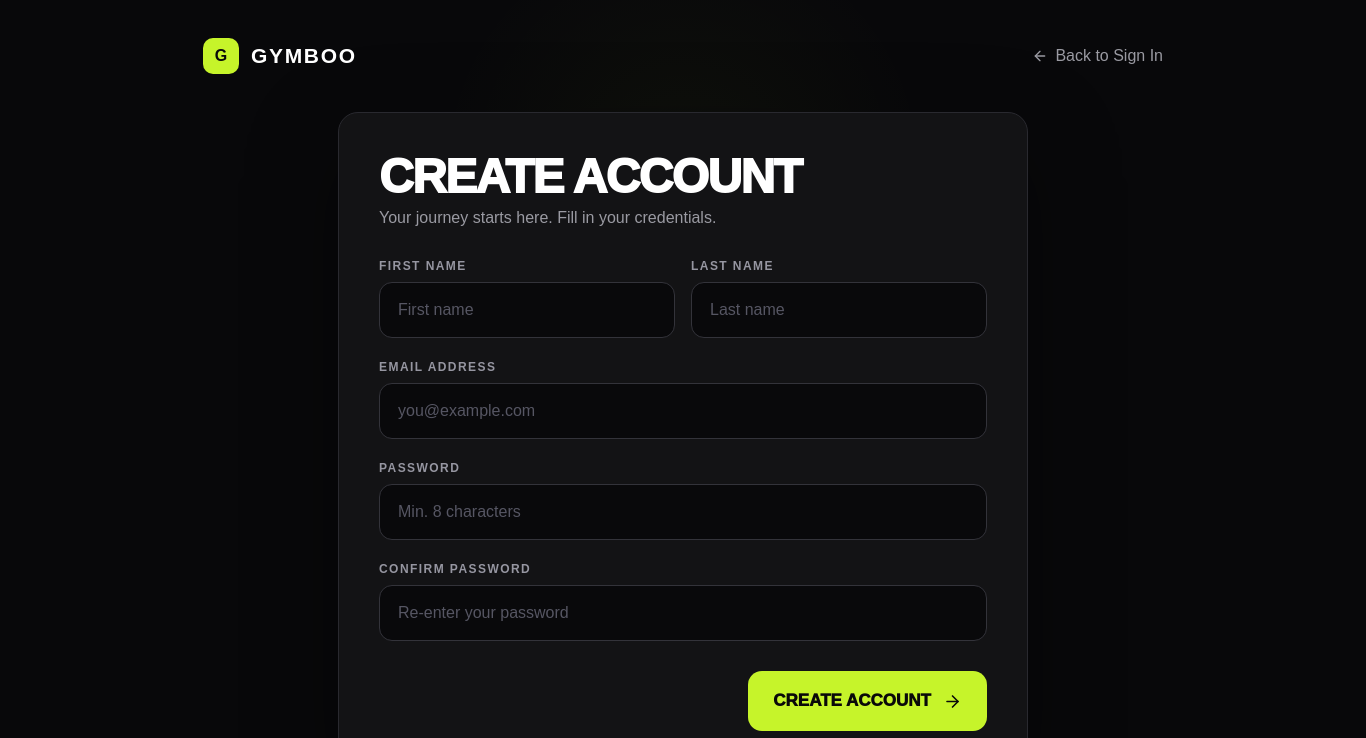
Scenario: Auth flow › rejects mismatched registration passwords
In the field with id "name": (527, 310) [379, 282, 675, 338], type "Paola"
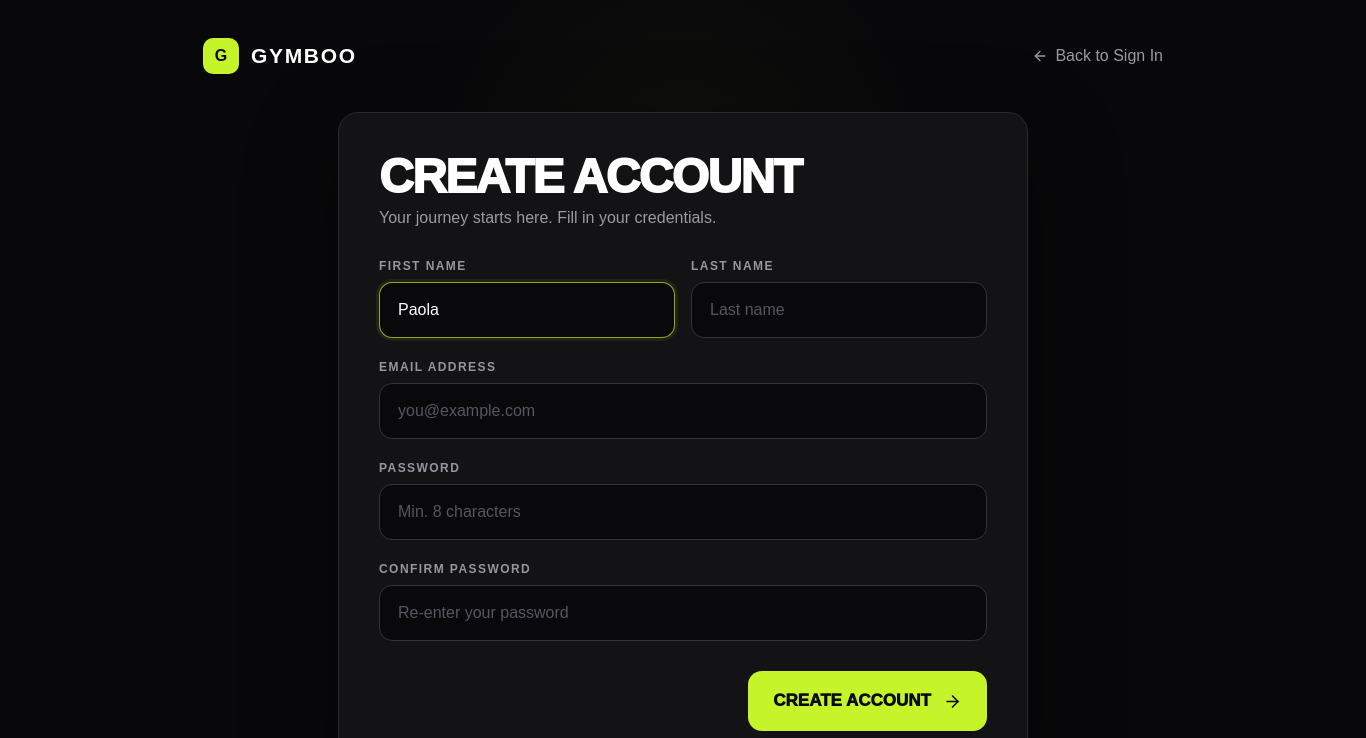
In the field with id "lastName": (839, 310) [691, 282, 987, 338], type "Test"
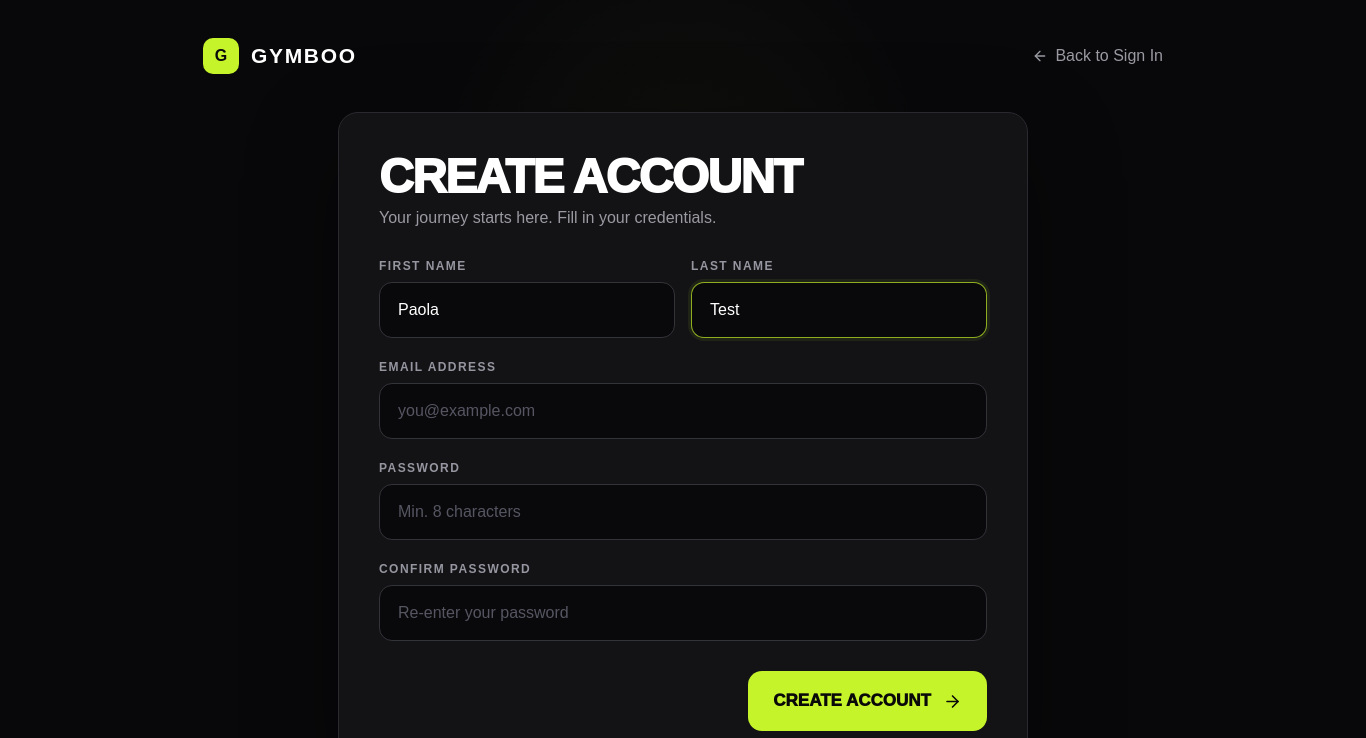
In the field with id "register-email": (683, 411) [379, 383, 987, 439], type "paola@test.com"
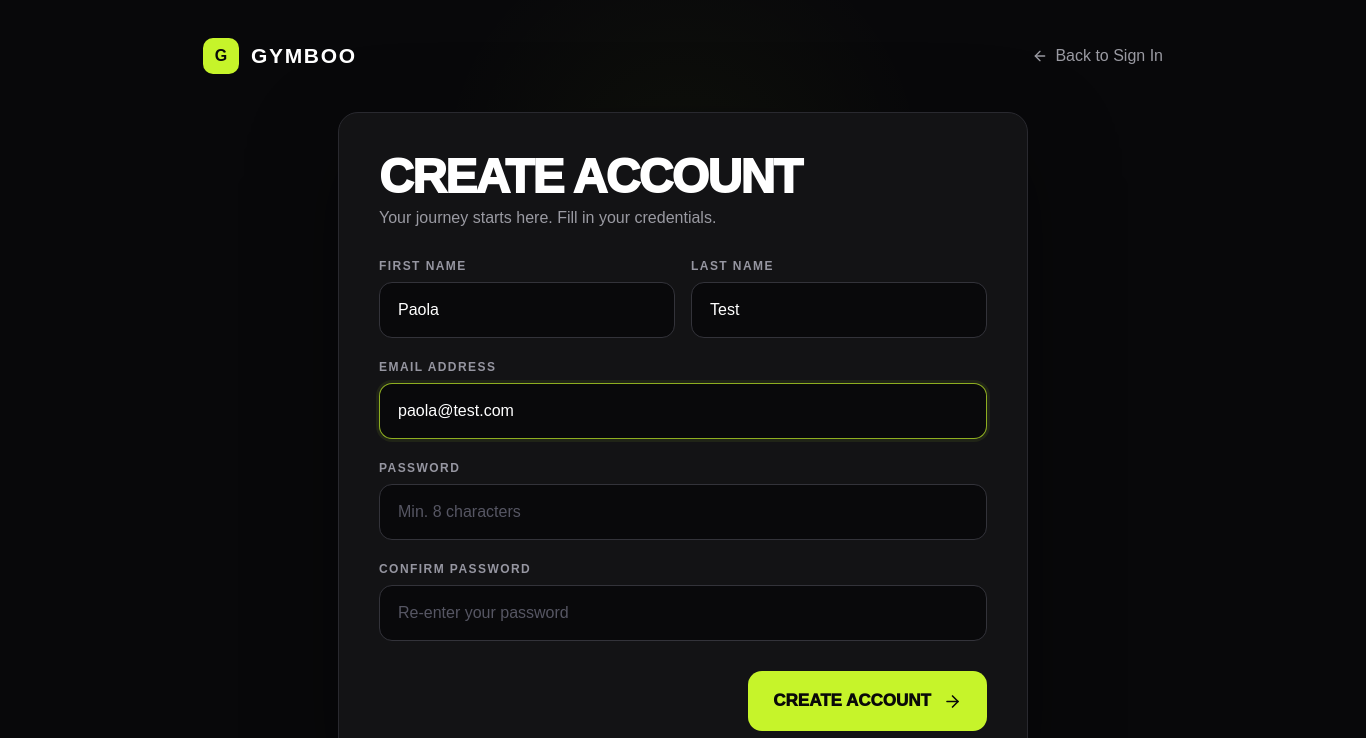
In the password field with id "register-password": (683, 512) [379, 484, 987, 540], type "Password123"
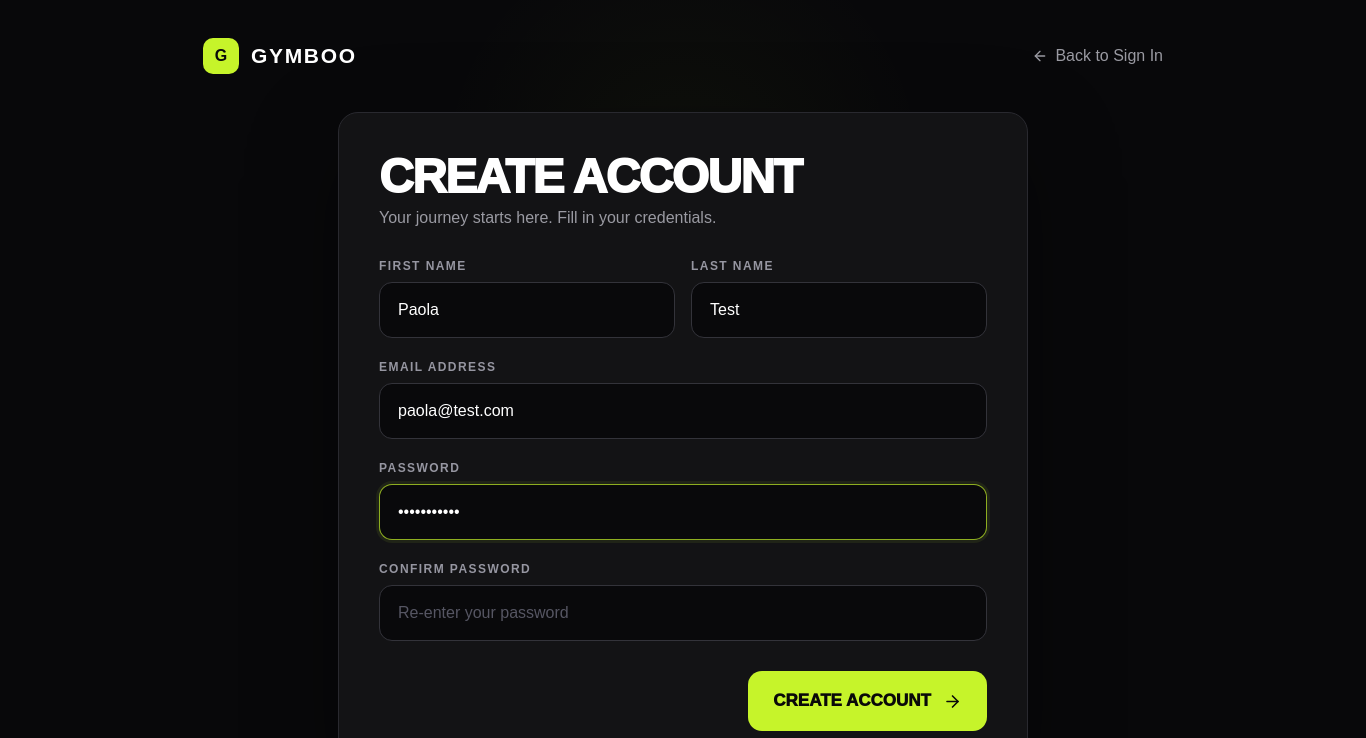
In the password field with id "confirm-password": (683, 613) [379, 585, 987, 641], type "Password456"
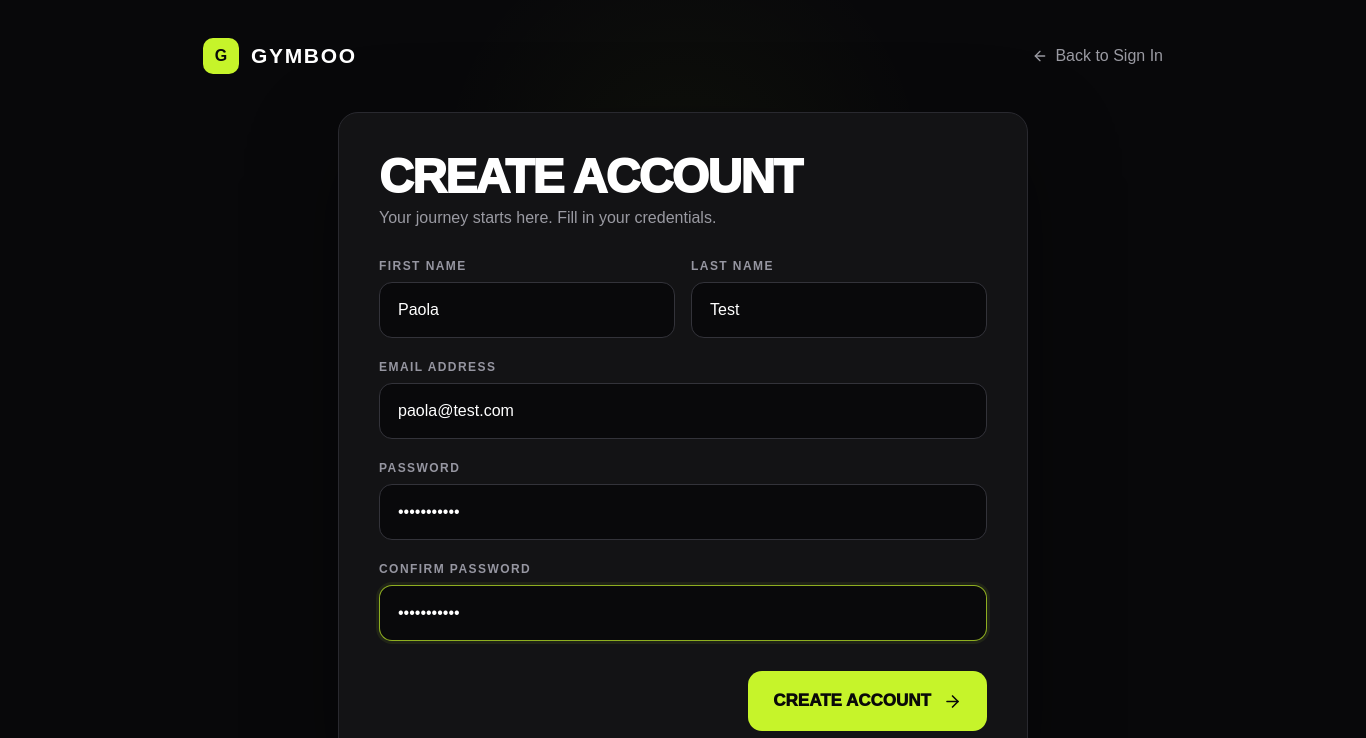
Click the button "Create account": (868, 701) [748, 671, 987, 731]
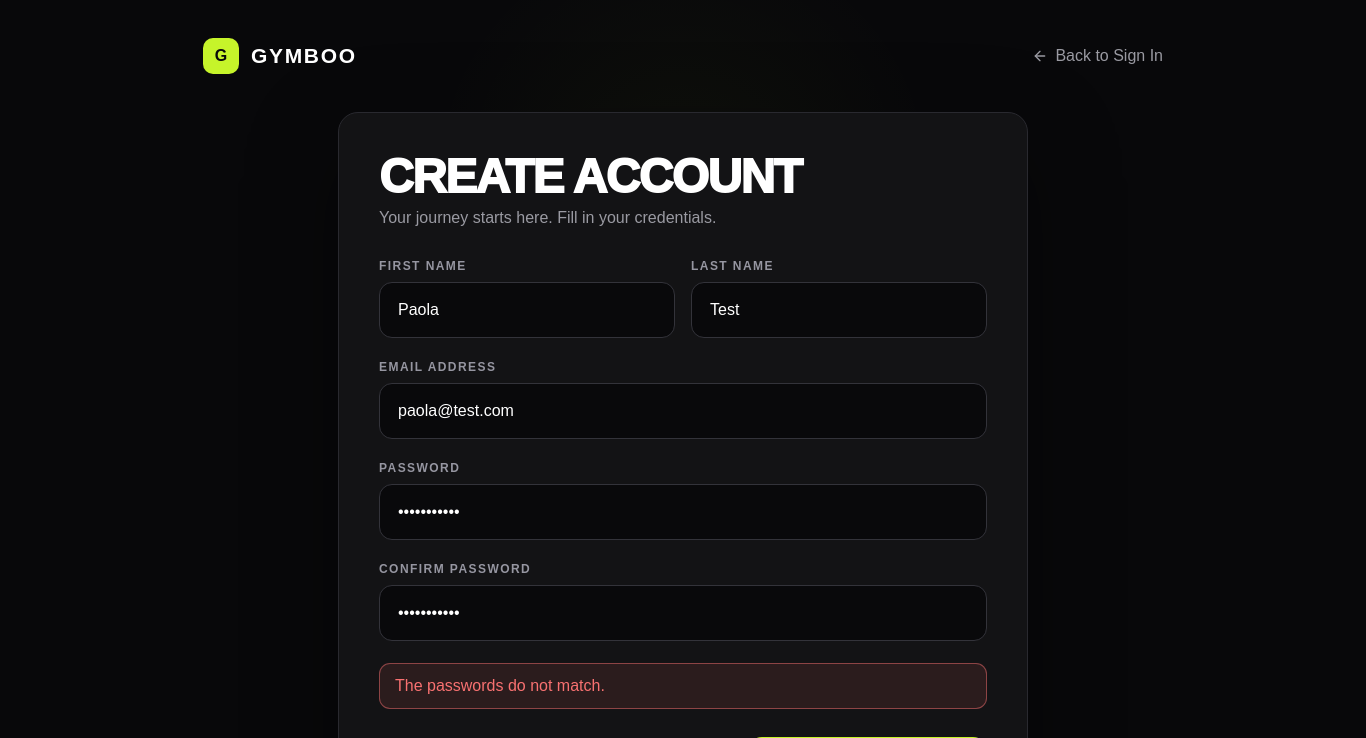
Check: the text "The passwords do not match." is shown, box [379, 663, 987, 709]
